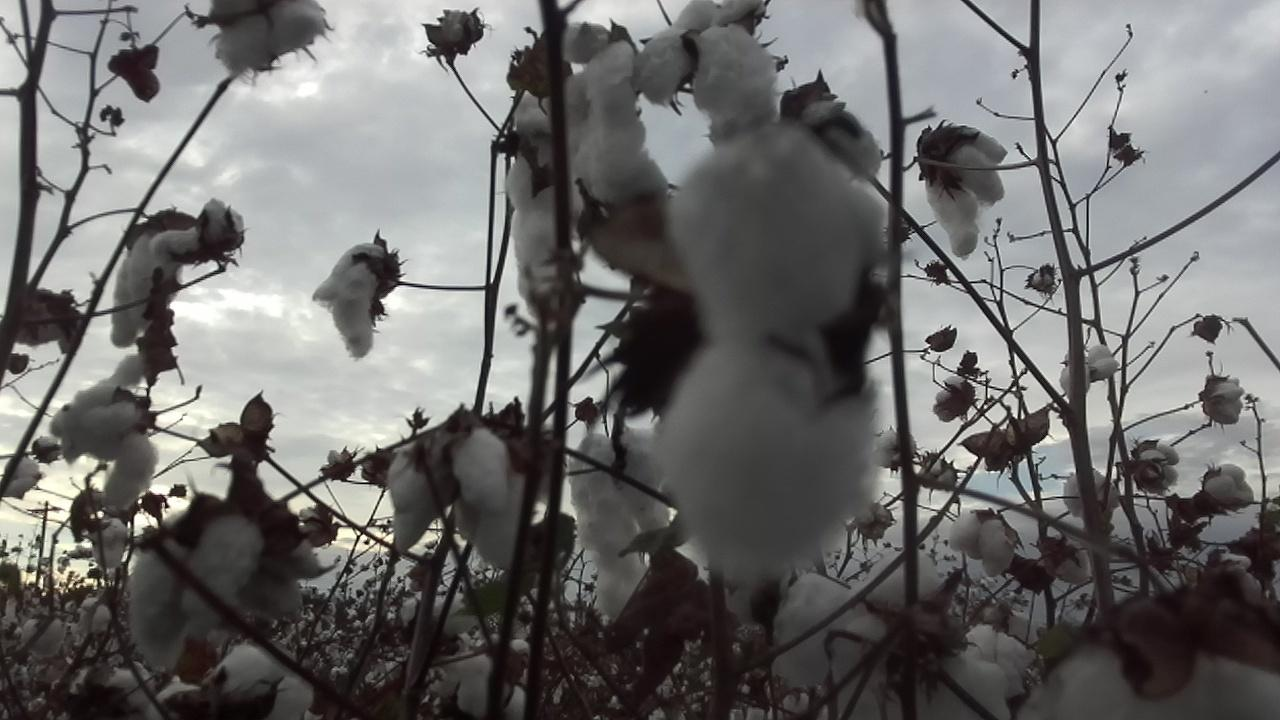cotton_ready: (659, 127, 887, 573), (767, 554, 1010, 720), (128, 510, 305, 668), (388, 421, 524, 575), (637, 0, 782, 144), (109, 195, 239, 349), (1014, 645, 1280, 720), (569, 425, 665, 627), (567, 24, 665, 209), (48, 387, 157, 510), (925, 129, 1012, 263), (149, 650, 312, 720), (510, 147, 575, 310), (309, 242, 390, 359), (213, 0, 332, 79), (440, 639, 534, 720), (946, 511, 1015, 577), (84, 349, 159, 390), (515, 82, 563, 144)
